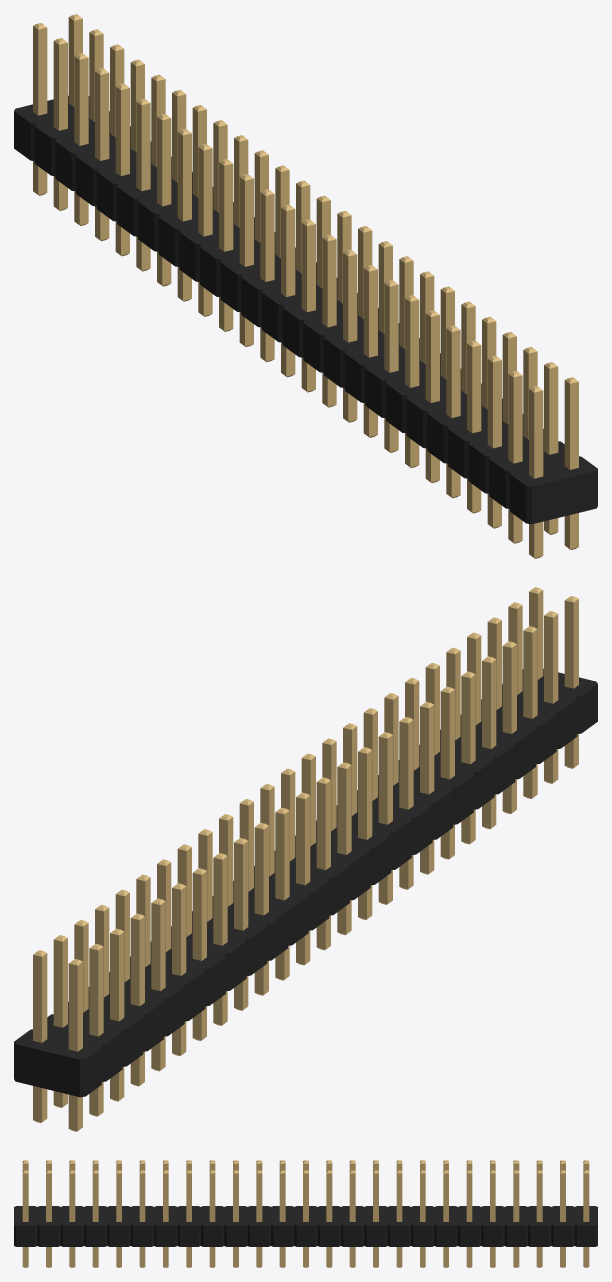
The model's file is kc-pinheader_2x25_p2.54mm_vertical.glb.
3 renders of one model, top to bottom at view 1: azimuth 30°, elevation 25°; view 2: azimuth 150°, elevation 25°; view 3: azimuth 270°, elevation 25°, orthographic. The views are drawn at different scales.
Parts seen in each view (by area): view 1: 0.75_0.5_0.25_0.9, 0_0_0_0; view 2: 0.75_0.5_0.25_0.9, 0_0_0_0; view 3: 0_0_0_0, 0.75_0.5_0.25_0.9.
Part boxes in pixels (x1,y1,x2,y2): 0.75_0.5_0.25_0.9: (33, 14, 578, 558); 0_0_0_0: (14, 95, 597, 524); 0.75_0.5_0.25_0.9: (33, 587, 578, 1131); 0_0_0_0: (14, 668, 597, 1097); 0_0_0_0: (14, 1206, 597, 1246); 0.75_0.5_0.25_0.9: (22, 1160, 589, 1267).
Bounding box in the file's own units: 0.5077 × 1.15 × 6.35.
